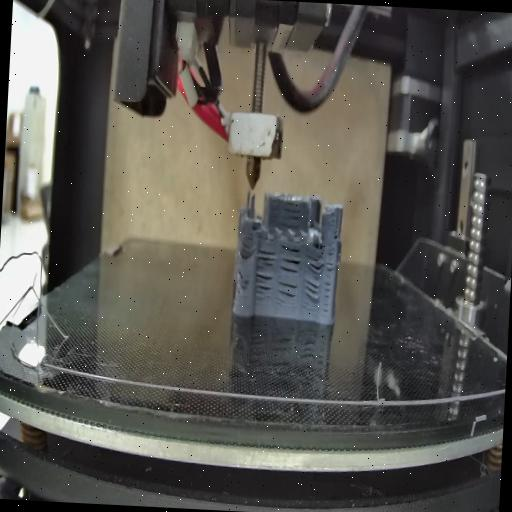cracks: (277, 201, 302, 228), (322, 262, 334, 317), (278, 245, 300, 275), (254, 272, 274, 302), (277, 280, 300, 304), (304, 254, 324, 274), (258, 246, 278, 266), (238, 238, 253, 260), (304, 280, 320, 300), (236, 266, 246, 282), (332, 227, 342, 241)
